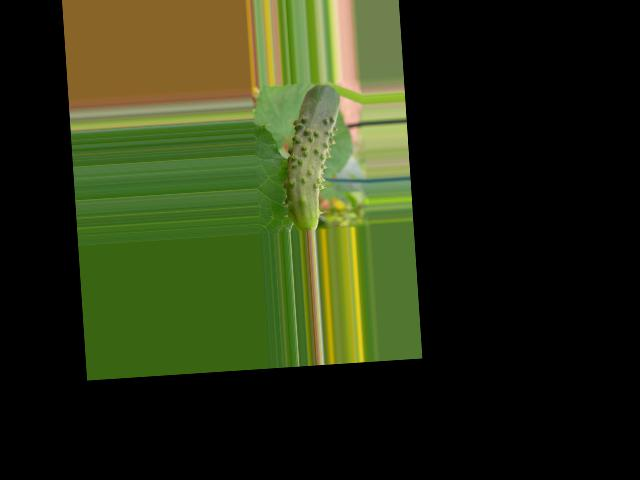cucumber: (276, 82, 347, 231)
